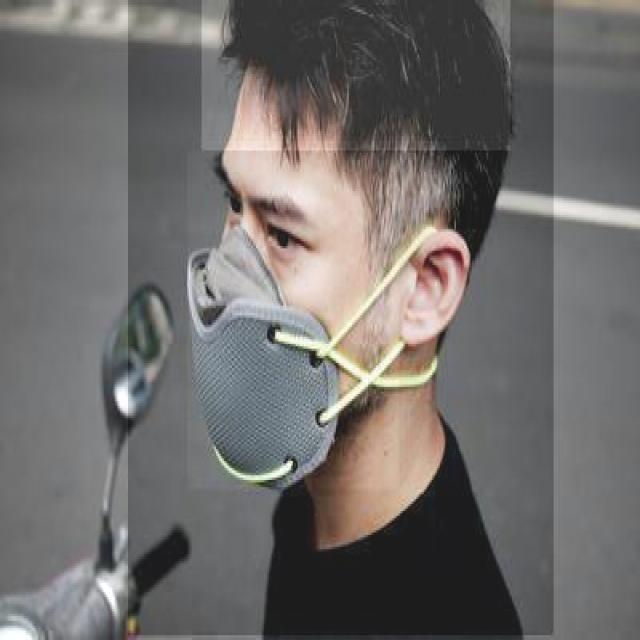face_mask: (185, 150, 398, 492)
head_nohelmet: (200, 0, 510, 153)
person: (126, 0, 554, 638)
